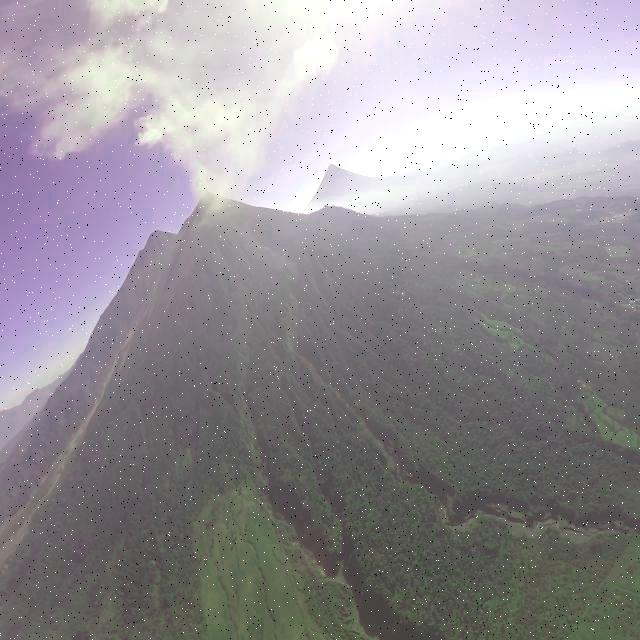Plume: (28, 0, 340, 199)
Summit: (186, 184, 236, 232)
